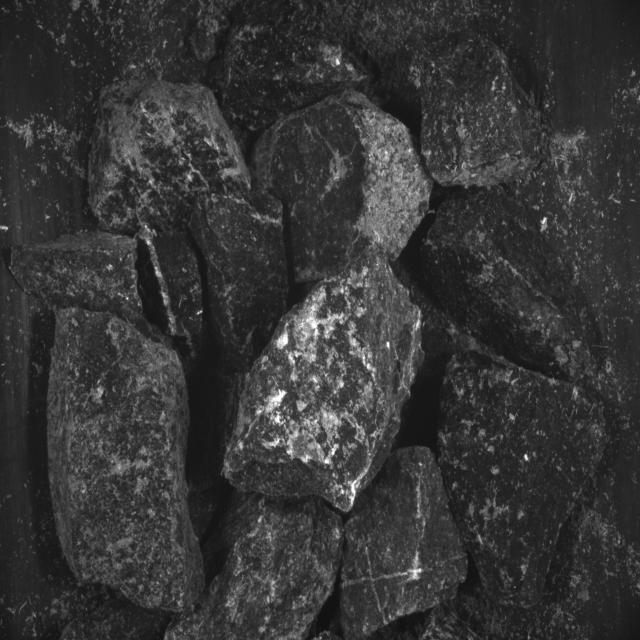Stones: (225, 248, 422, 512), (49, 308, 205, 613), (439, 352, 607, 609), (255, 91, 434, 283), (422, 188, 591, 382), (166, 498, 345, 640), (341, 447, 469, 640), (90, 82, 251, 235), (224, 1, 367, 132), (422, 36, 542, 188), (191, 192, 289, 371), (11, 234, 144, 324), (137, 230, 204, 360)
